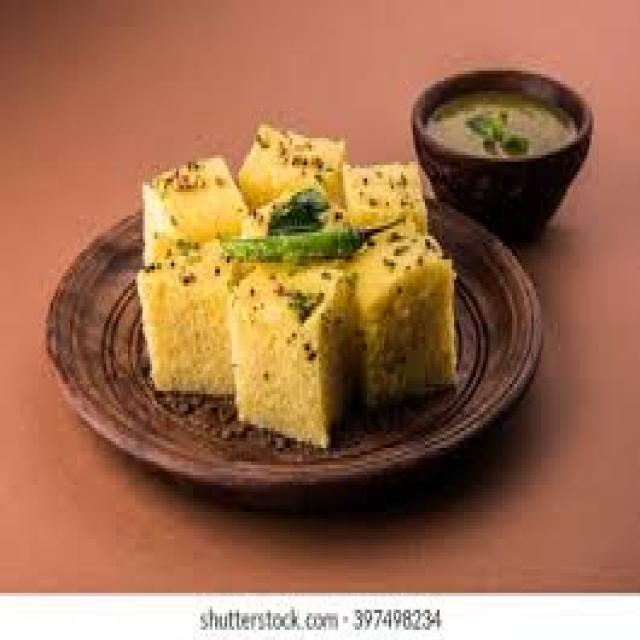DHOKLA: (135, 125, 454, 445)
